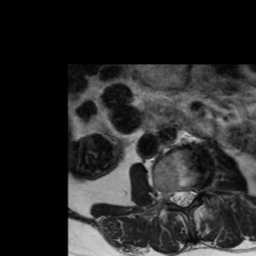CCS_stenosis: (180, 179, 188, 213)
LFS_stenosis: (196, 177, 204, 201)
LLS_normal: (188, 180, 196, 209)
RFS_normal: (163, 180, 172, 210)
RLS_normal: (172, 180, 180, 210)
